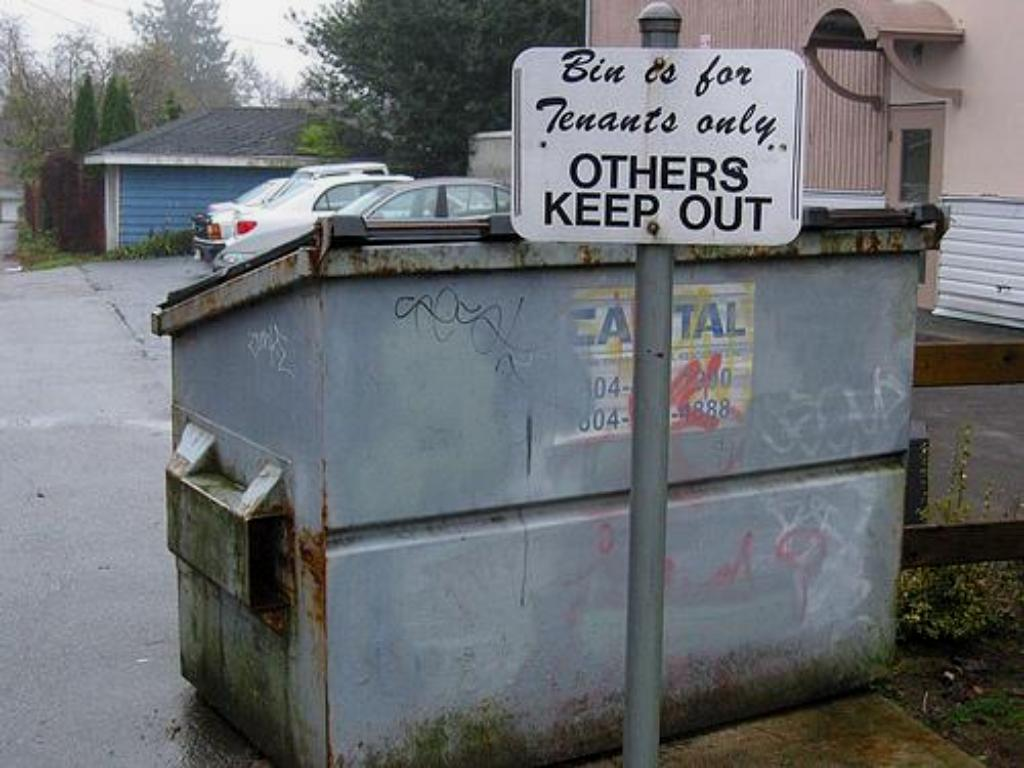dustbin: (147, 203, 971, 768)
